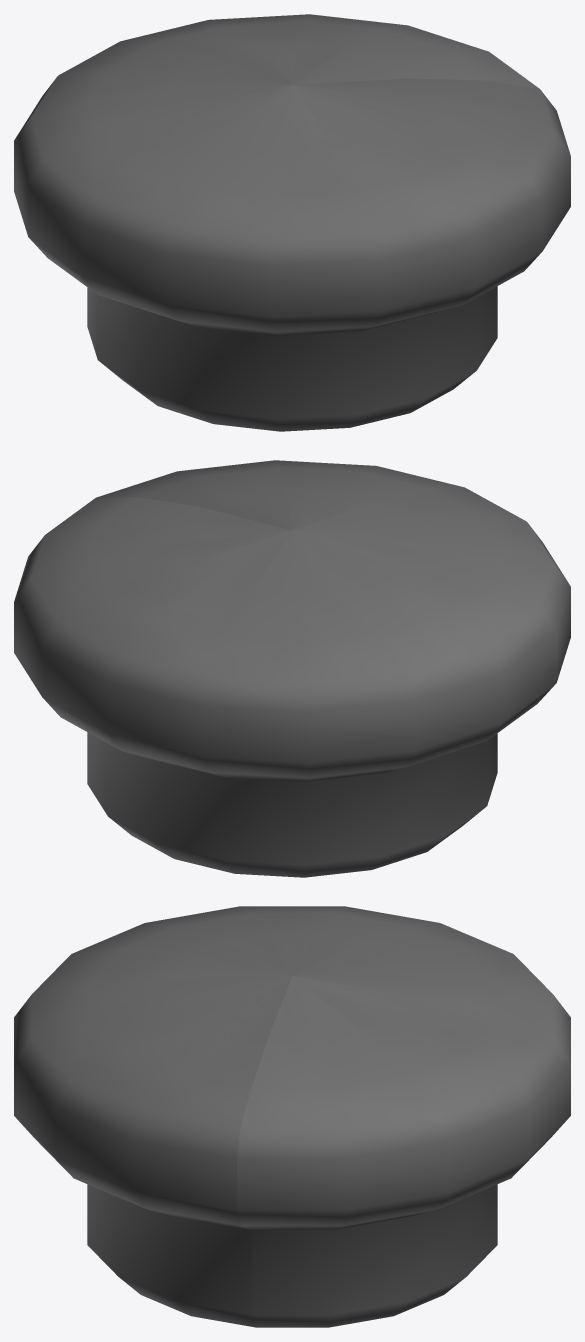
Rendered from polefinial_disc.obj.
The picture shows the model from 3 angles, top to bottom: view 1: azimuth 30°, elevation 25°; view 2: azimuth 150°, elevation 25°; view 3: azimuth 270°, elevation 25°; orthographic projection.
Visible parts, largest first — view 1: polefinial_disc; view 2: polefinial_disc; view 3: polefinial_disc.
Part boxes in pixels (<box>): polefinial_disc: <box>14,14,570,431</box>; polefinial_disc: <box>14,460,570,877</box>; polefinial_disc: <box>14,906,570,1327</box>.
Size of the model in its own units: 0.5823 by 0.3188 by 0.5823.
